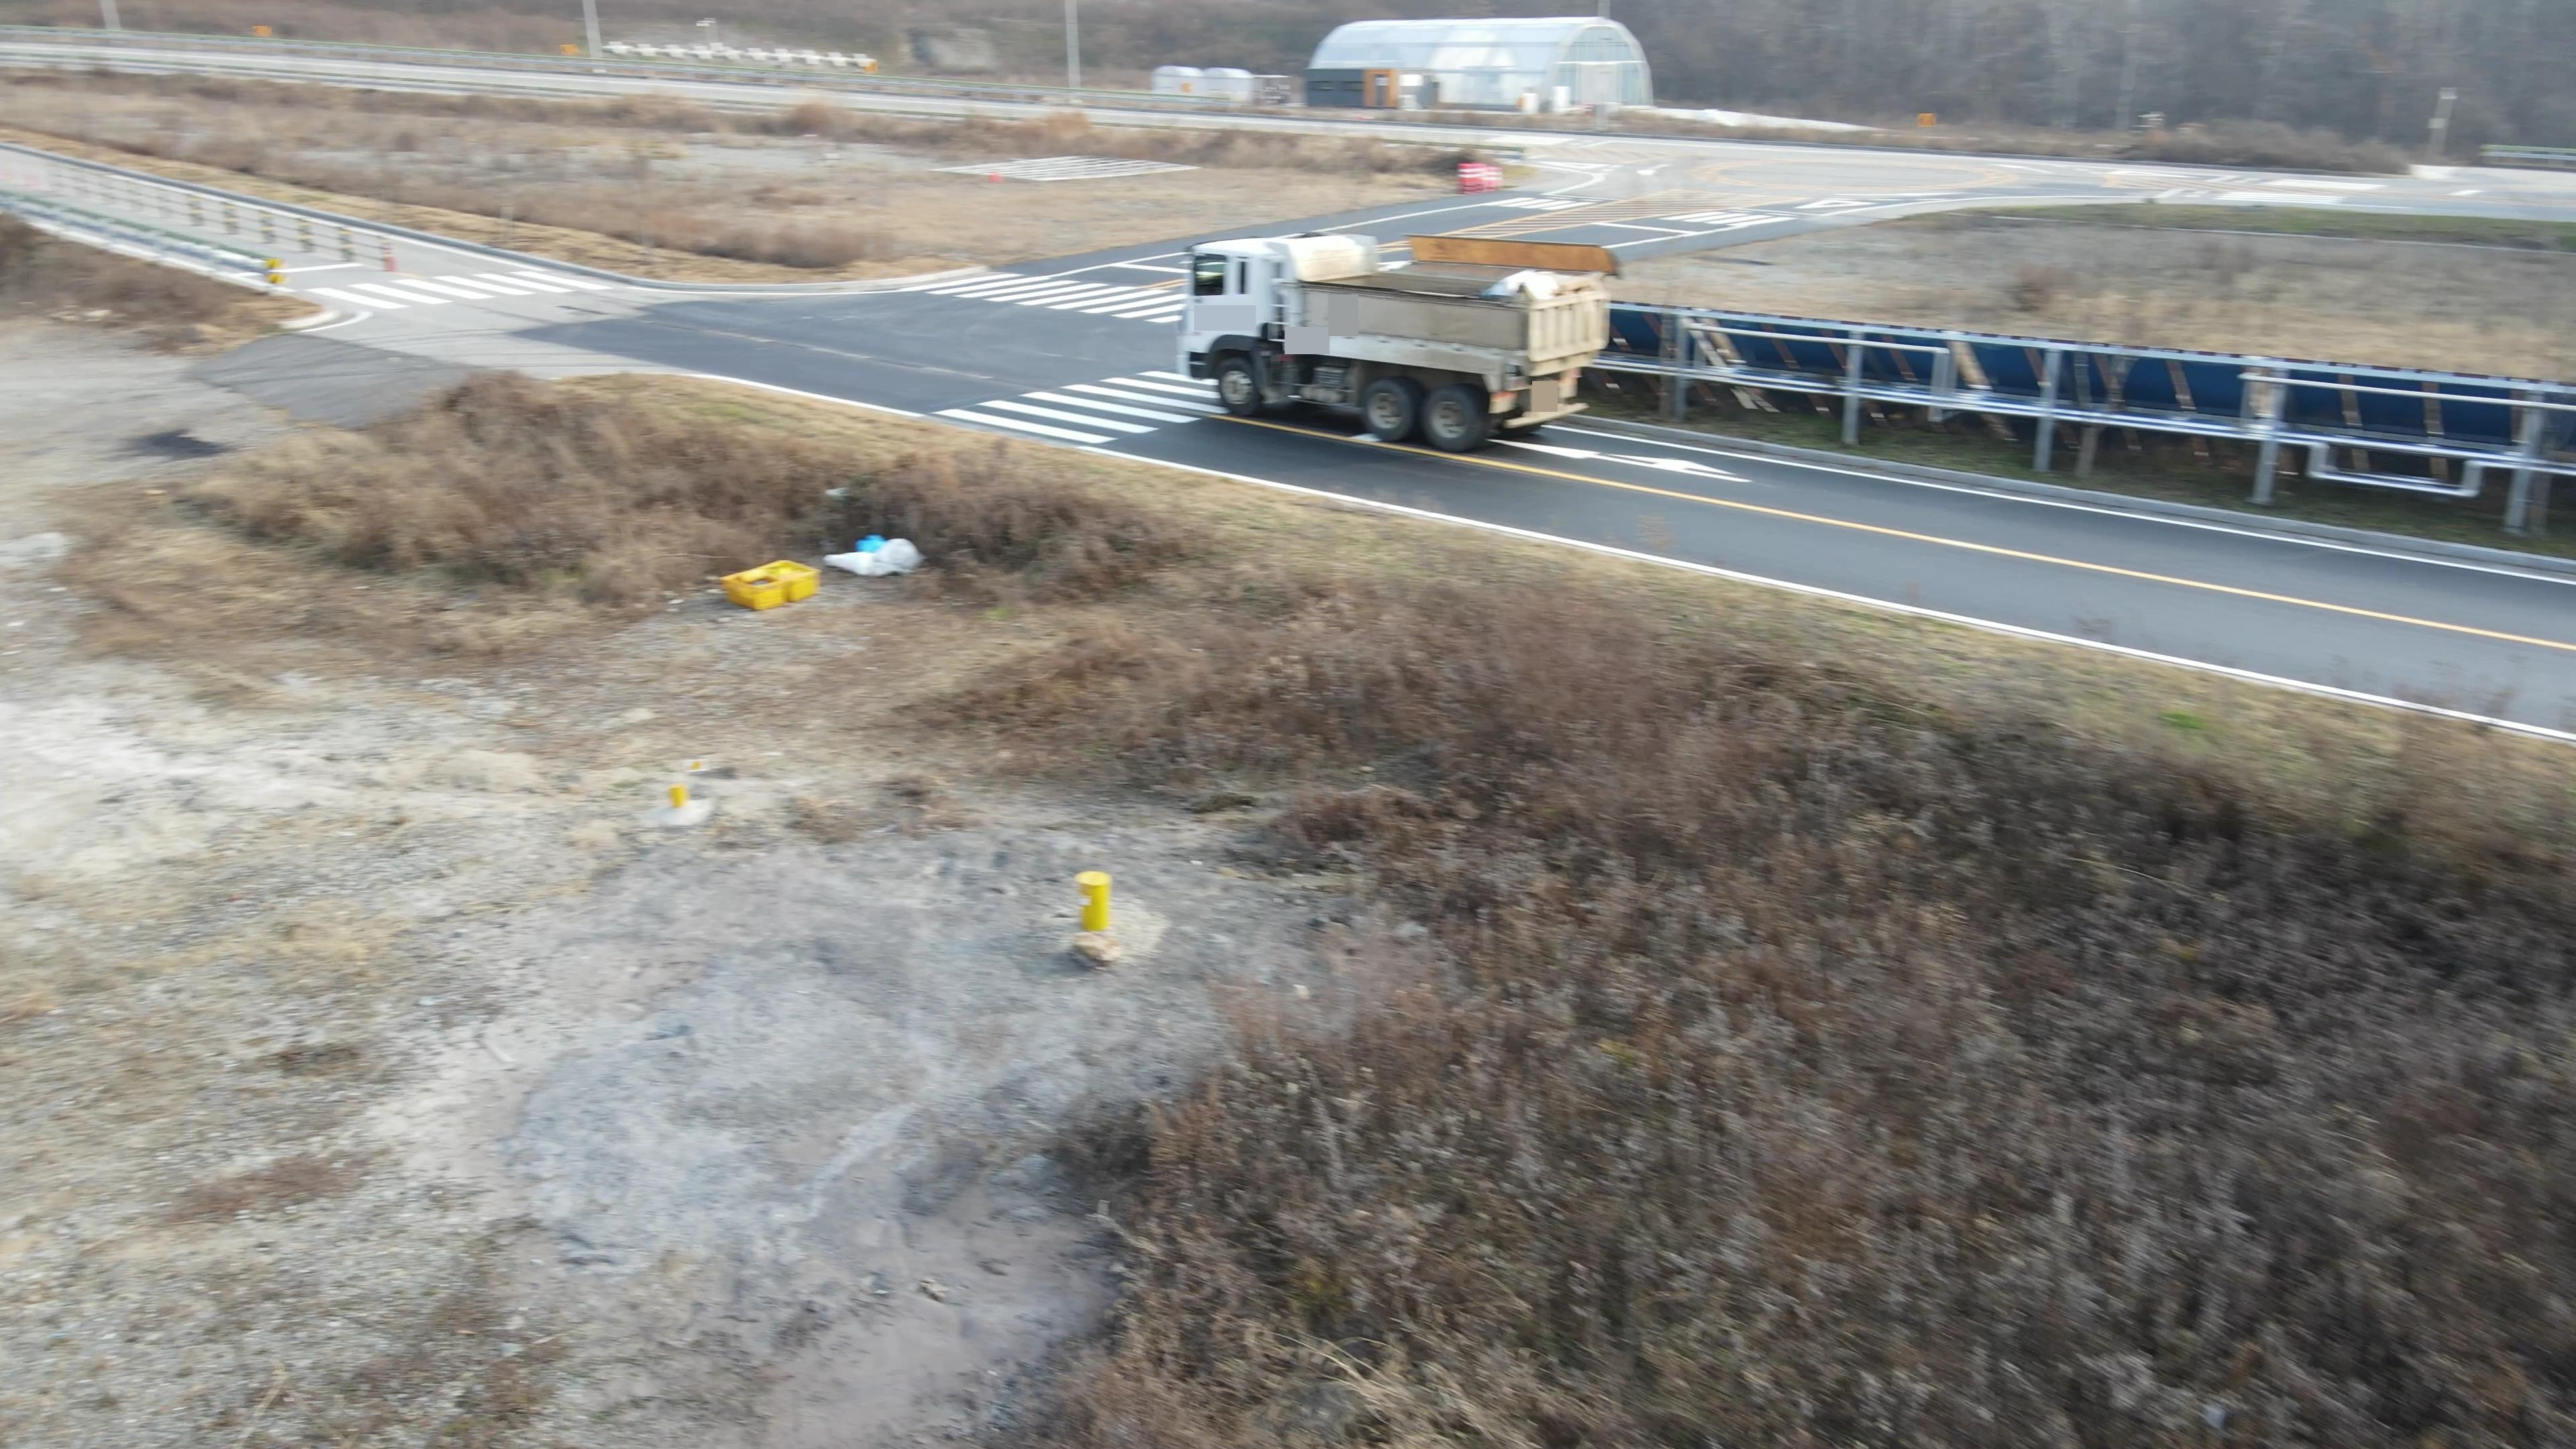불법차량: (1175, 230, 1624, 453)
